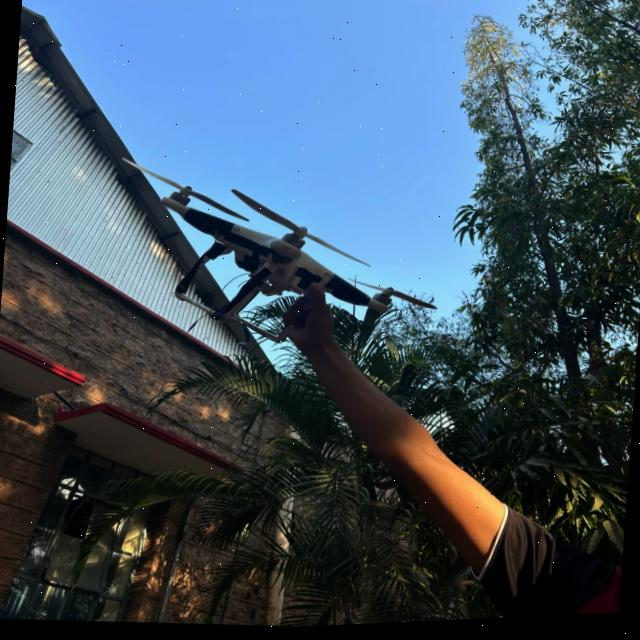drone: (68, 135, 476, 389)
